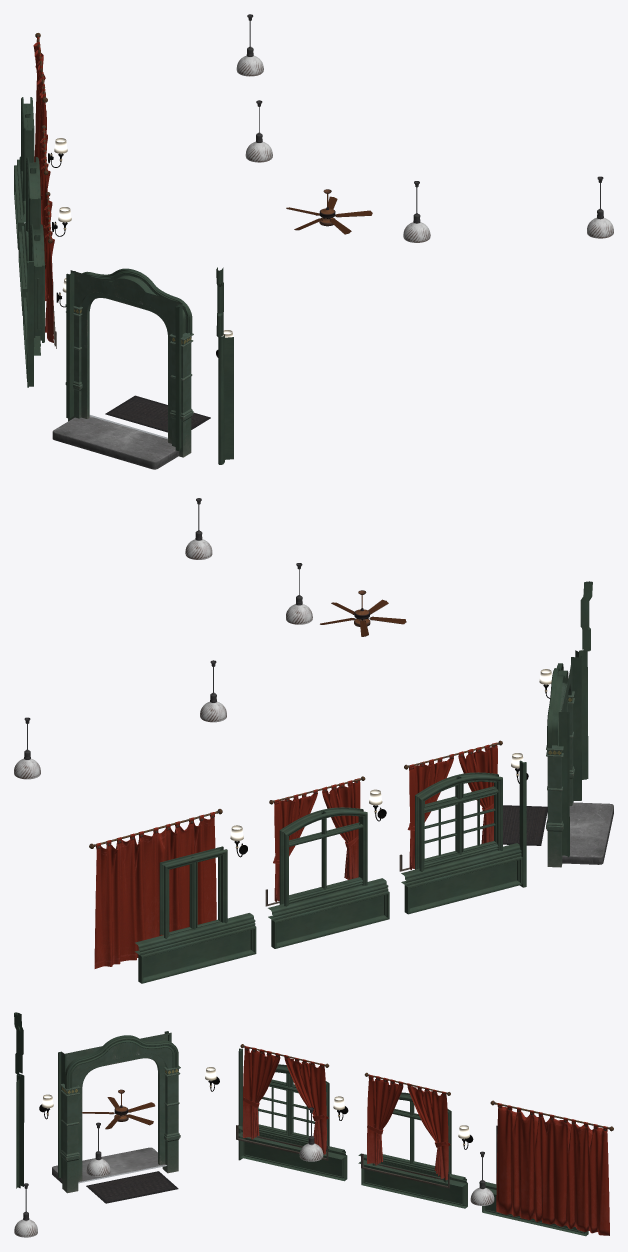
The model's file is bistroInteriorOnlyLights.gltf.
The picture shows the model from 3 angles, top to bottom: view 1: azimuth 30°, elevation 25°; view 2: azimuth 150°, elevation 25°; view 3: azimuth 270°, elevation 25°; orthographic projection. The views are drawn at different scales.
Parts seen in each view (by area): view 1: Bistro_Research_Exterior_Paris_Building_01_paris_buildi_f6a1, Bistro_Research_Exterior_Paris_Building_01_paris_buildi_4dd9, Bistro_Research_Exterior_Paris_Building_01_paris_buildi_9720, Bistro_Research_Exterior_Paris_Building_01_paris_buildi_6cf6, Bistro_Research_Exterior_Paris_Building_01_paris_buildi_dbfa, Bistro_Research_Interior_Doormat_01_1520, Bistro_Research_Exterior_Paris_Building_01_paris_buildi_6510, Bistro_Research_Exterior_Paris_Building_01_paris_buildi_7399, Bistro_Research_Exterior_Paris_Building_01_paris_buildi_e34a, Bistro_Research_Interior_Curtains_paris_building_01_int_2819, Bistro_Research_Interior_Curtains_paris_building_01_int_c711, Bistro_Research_Exterior_Paris_Building_01_paris_buildi_5928 (+9 smaller); view 2: Bistro_Research_Interior_Curtains_paris_building_01_int_c711, Bistro_Research_Exterior_Paris_Building_01_paris_buildi_5032, Bistro_Research_Interior_Curtains_paris_building_01_int_ac24, Bistro_Research_Interior_Curtains_paris_building_01_int_2819, Bistro_Research_Exterior_Paris_Building_01_paris_buildi_4dd9, Bistro_Research_Exterior_Paris_Building_01_paris_buildi_f6a1, Bistro_Research_Exterior_Paris_Building_01_paris_buildi_3135, Bistro_Research_Exterior_Paris_Building_01_paris_buildi_7f28, Bistro_Research_Exterior_Paris_Building_01_paris_buildi_5928, Bistro_Research_Exterior_Paris_Building_01_paris_buildi_ff5a, Bistro_Research_Exterior_Paris_Building_01_paris_buildi_7399, Bistro_Research_Exterior_Paris_Building_01_paris_buildi_0680 (+13 smaller); view 3: Bistro_Research_Interior_Curtains_paris_building_01_int_c711, Bistro_Research_Interior_Curtains_paris_building_01_int_2819, Bistro_Research_Interior_Curtains_paris_building_01_int_ac24, Bistro_Research_Exterior_Paris_Building_01_paris_buildi_dbfa, Bistro_Research_Exterior_Paris_Building_01_paris_buildi_7f28, Bistro_Research_Exterior_Paris_Building_01_paris_buildi_9720, Bistro_Research_Interior_Doormat_01_1520, Bistro_Research_Exterior_Paris_Building_01_paris_buildi_3135, Bistro_Research_Exterior_Paris_Building_01_paris_buildi_0680, Bistro_Research_Exterior_Paris_Building_01_paris_buildi_f6a1, Bistro_Research_Exterior_Paris_Building_01_paris_buildi_5032, Bistro_Research_Exterior_Paris_Building_01_paris_buildi_a079 (+22 smaller).
Boxes of the visible parts, box(x1,y1,x2,y2) form: Bistro_Research_Exterior_Paris_Building_01_paris_buildi_f6a1: box(52, 416, 179, 469); Bistro_Research_Exterior_Paris_Building_01_paris_buildi_4dd9: box(66, 271, 182, 450); Bistro_Research_Exterior_Paris_Building_01_paris_buildi_9720: box(81, 292, 171, 443); Bistro_Research_Exterior_Paris_Building_01_paris_buildi_6cf6: box(70, 270, 181, 335); Bistro_Research_Exterior_Paris_Building_01_paris_buildi_dbfa: box(169, 332, 193, 457); Bistro_Research_Interior_Doormat_01_1520: box(105, 395, 210, 432); Bistro_Research_Exterior_Paris_Building_01_paris_buildi_6510: box(216, 267, 224, 464); Bistro_Research_Exterior_Paris_Building_01_paris_buildi_7399: box(30, 224, 44, 342); Bistro_Research_Exterior_Paris_Building_01_paris_buildi_e34a: box(224, 337, 233, 459); Bistro_Research_Interior_Curtains_paris_building_01_int_2819: box(44, 192, 54, 342); Bistro_Research_Interior_Curtains_paris_building_01_int_c711: box(33, 33, 47, 178); Bistro_Research_Exterior_Paris_Building_01_paris_buildi_5928: box(26, 157, 40, 260); Bistro_Research_Interior_Curtains_paris_building_01_int_c711: box(89, 809, 222, 968); Bistro_Research_Exterior_Paris_Building_01_paris_buildi_5032: box(135, 843, 521, 955); Bistro_Research_Interior_Curtains_paris_building_01_int_ac24: box(269, 776, 365, 901); Bistro_Research_Interior_Curtains_paris_building_01_int_2819: box(404, 740, 502, 869); Bistro_Research_Exterior_Paris_Building_01_paris_buildi_4dd9: box(558, 656, 581, 857); Bistro_Research_Exterior_Paris_Building_01_paris_buildi_f6a1: box(562, 802, 613, 864); Bistro_Research_Exterior_Paris_Building_01_paris_buildi_3135: box(409, 860, 517, 908); Bistro_Research_Exterior_Paris_Building_01_paris_buildi_7f28: box(276, 895, 383, 942); Bistro_Research_Exterior_Paris_Building_01_paris_buildi_5928: box(279, 807, 367, 906); Bistro_Research_Exterior_Paris_Building_01_paris_buildi_ff5a: box(143, 930, 250, 977); Bistro_Research_Exterior_Paris_Building_01_paris_buildi_7399: box(415, 772, 502, 871); Bistro_Research_Exterior_Paris_Building_01_paris_buildi_0680: box(546, 742, 563, 867); Bistro_Research_Interior_Curtains_paris_building_01_int_c711: box(490, 1100, 613, 1235); Bistro_Research_Interior_Curtains_paris_building_01_int_2819: box(240, 1044, 329, 1154); Bistro_Research_Interior_Curtains_paris_building_01_int_ac24: box(364, 1072, 450, 1180); Bistro_Research_Exterior_Paris_Building_01_paris_buildi_dbfa: box(60, 1083, 80, 1193); Bistro_Research_Exterior_Paris_Building_01_paris_buildi_7f28: box(364, 1165, 463, 1205); Bistro_Research_Exterior_Paris_Building_01_paris_buildi_9720: box(78, 1053, 165, 1181); Bistro_Research_Interior_Doormat_01_1520: box(86, 1171, 178, 1203); Bistro_Research_Exterior_Paris_Building_01_paris_buildi_3135: box(243, 1137, 343, 1178); Bistro_Research_Exterior_Paris_Building_01_paris_buildi_0680: box(162, 1066, 180, 1173); Bistro_Research_Exterior_Paris_Building_01_paris_buildi_f6a1: box(52, 1147, 165, 1183); Bistro_Research_Exterior_Paris_Building_01_paris_buildi_5032: box(238, 1125, 496, 1194); Bistro_Research_Exterior_Paris_Building_01_paris_buildi_a079: box(65, 1035, 178, 1089).
Bounding box in the file's own units: 0.1859 × 0.0747 × 0.2265.
13 materials, 13 textured.
